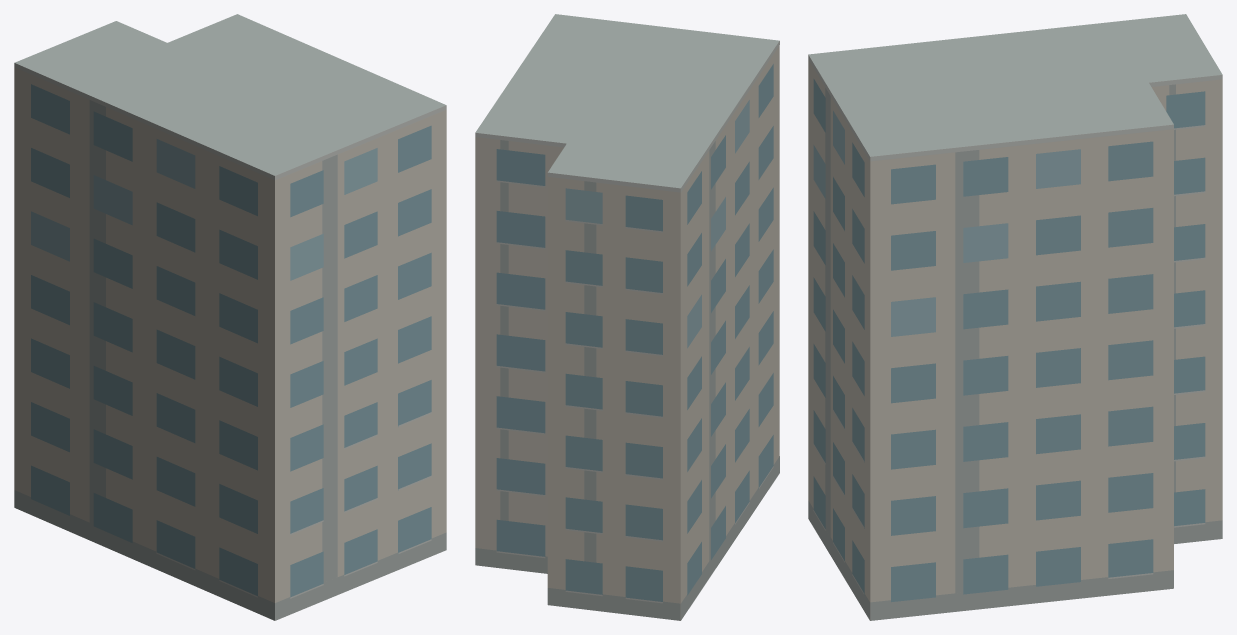
File: survey-upis-32811254.glb
The picture shows the model from 3 angles, left to right: view 1: azimuth 30°, elevation 25°; view 2: azimuth 150°, elevation 25°; view 3: azimuth 270°, elevation 25°; orthographic projection. The views are drawn at different scales.
Visible parts, largest first — view 1: survey-upis-32811254.tmp; view 2: survey-upis-32811254.tmp; view 3: survey-upis-32811254.tmp.
Part boxes in pixels (bbox=[...]): survey-upis-32811254.tmp: bbox=[14, 14, 446, 620]; survey-upis-32811254.tmp: bbox=[475, 14, 779, 620]; survey-upis-32811254.tmp: bbox=[808, 14, 1222, 620].
Bounding box in the file's own units: 16.45 × 24.9 × 20.16.
